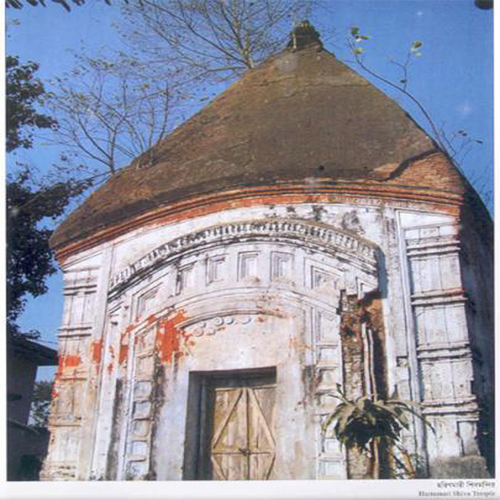Temple: (44, 36, 480, 470)
